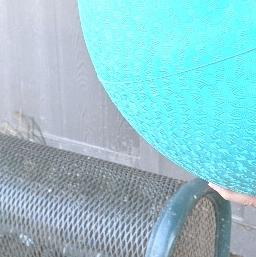algae: (88, 0, 256, 172)
